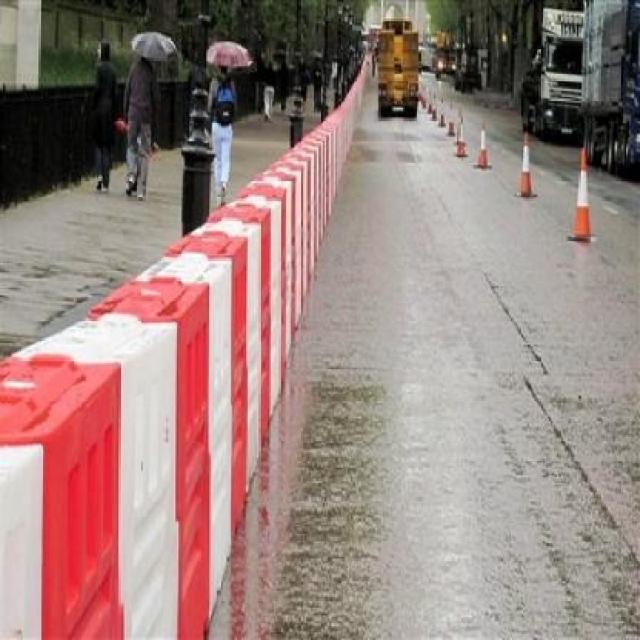fallen_object: (56, 274, 244, 640), (0, 304, 112, 640), (176, 207, 270, 501), (236, 157, 313, 333), (286, 119, 345, 214), (505, 119, 548, 211), (337, 45, 379, 139), (415, 87, 469, 160), (569, 133, 598, 259), (470, 119, 502, 185)
